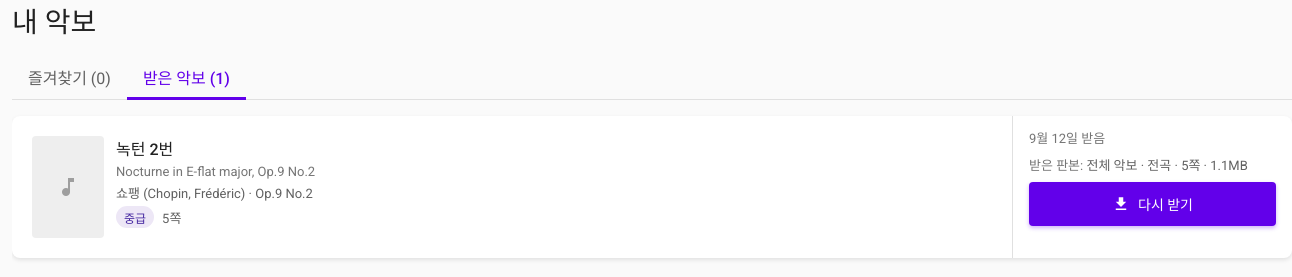
Scenario: 받은 악보 다시 받기 — 진행 표시 (09 §1-2-1, 03 §251 과 같다) › 받는 중에는 스피너가 돌고 버튼이 잠긴다 — 곡 상세와 같은 표시다
Step 1. Click the link with class "library-receive-btn" → (1152, 204), box [1029,182,1276,226]
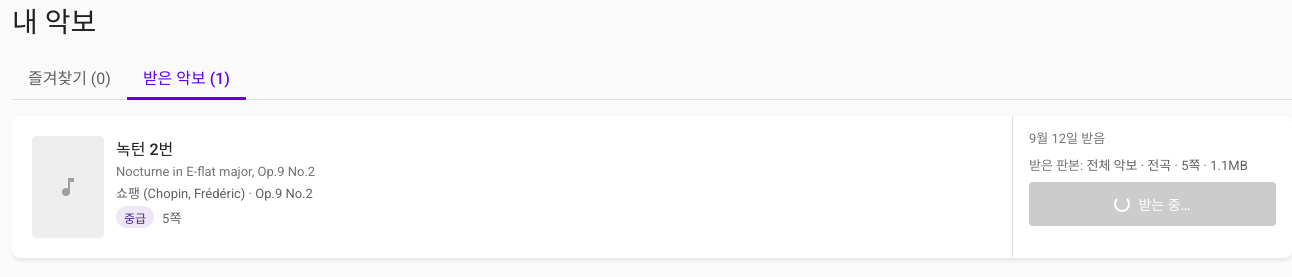
Check: the text "받는 중…" is shown, box [1029,182,1276,226]
Check: the button with class "btn-spinner" is shown, box [1114,196,1130,212]
